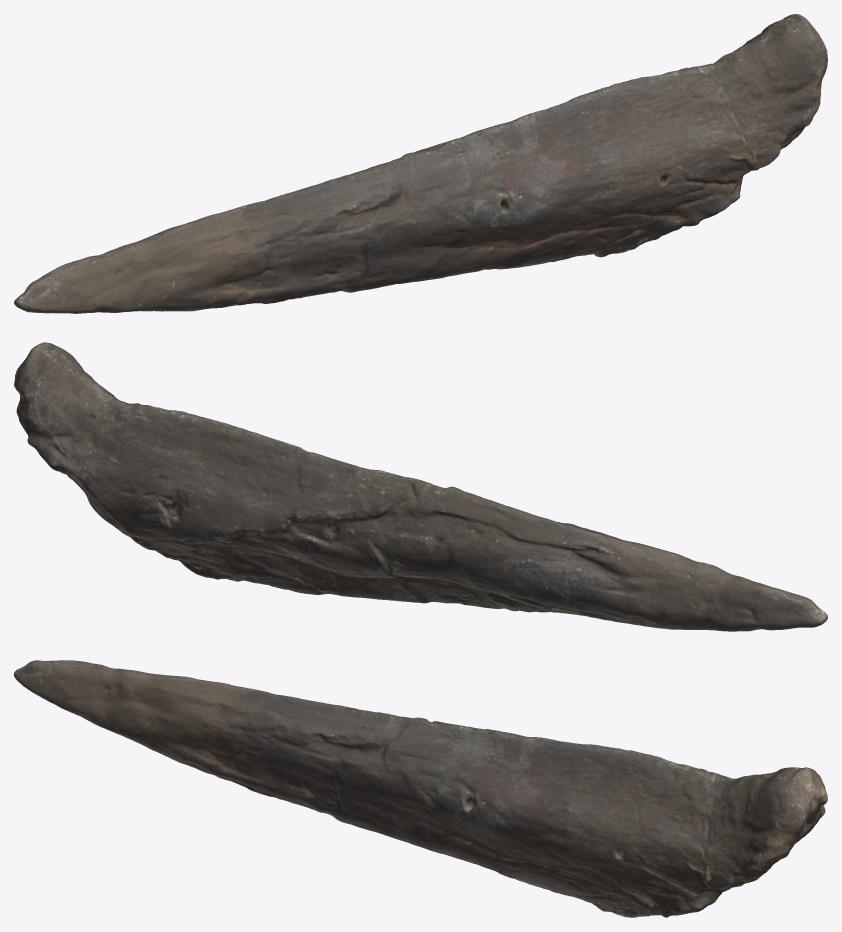
File: stegosaurus_stenops_usnm.glb
The picture shows the model from 3 angles, top to bottom: view 1: azimuth 30°, elevation 25°; view 2: azimuth 150°, elevation 25°; view 3: azimuth 330°, elevation 25°; orthographic projection.
Parts seen in each view (by area): view 1: Stegosaurus_stenops_Marsh__1887-150k; view 2: Stegosaurus_stenops_Marsh__1887-150k; view 3: Stegosaurus_stenops_Marsh__1887-150k.
Part boxes in pixels (x1,y1,x2,y2): Stegosaurus_stenops_Marsh__1887-150k: [14, 14, 827, 313]; Stegosaurus_stenops_Marsh__1887-150k: [14, 342, 827, 631]; Stegosaurus_stenops_Marsh__1887-150k: [14, 660, 827, 917].
Bounding box in the file's own units: 0.3035 × 0.0691 × 0.0389.
1 material, 1 textured.
